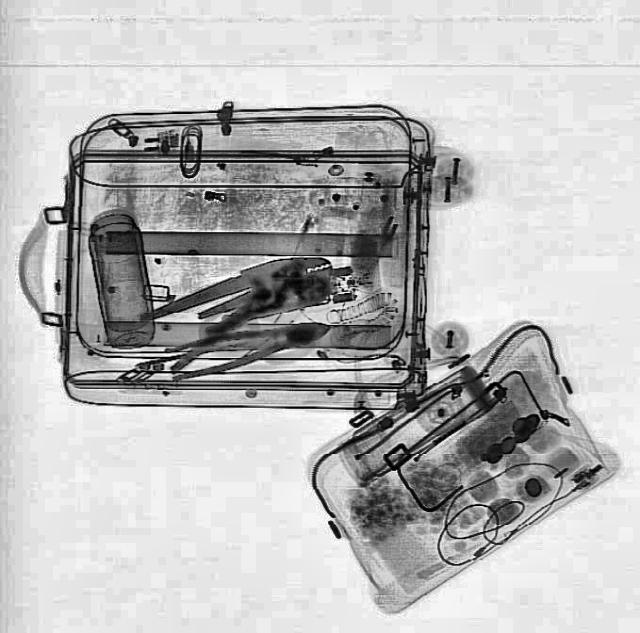Pliers: (130, 240, 346, 360), (158, 308, 334, 382)
